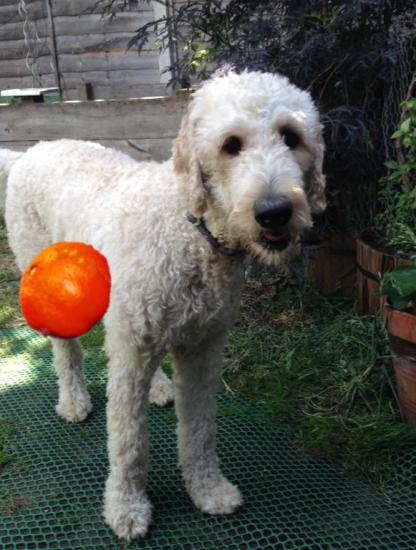Clementine: (13, 238, 119, 344)
